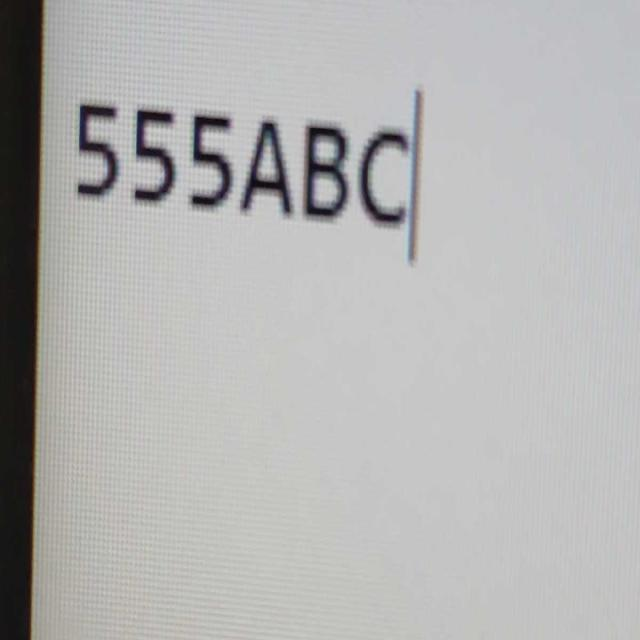license_plate: (72, 88, 410, 242)
